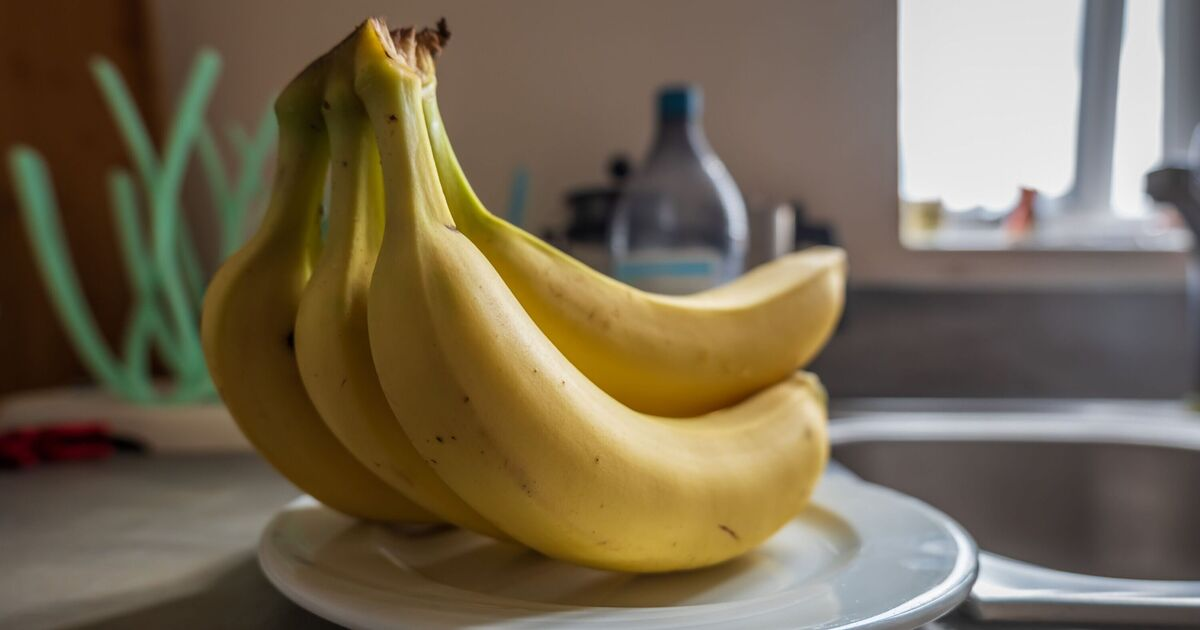banana: (202, 31, 863, 584)
